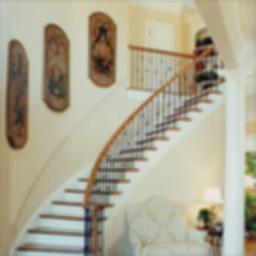Escaleras: (11, 45, 218, 255)
